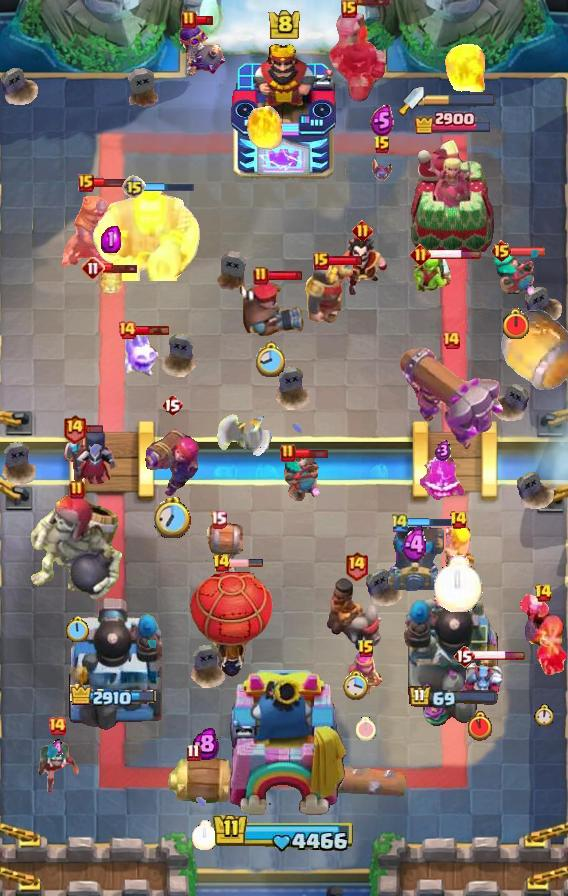archer: (346, 653, 386, 697)
axe: (216, 401, 272, 459)
bandit: (32, 739, 82, 793)
bar: (408, 516, 460, 528), (143, 181, 195, 193), (472, 650, 526, 661), (428, 249, 482, 260), (294, 447, 329, 460), (135, 324, 171, 336), (103, 262, 139, 274), (267, 270, 304, 281), (327, 255, 364, 266), (510, 246, 546, 257), (92, 177, 127, 188), (228, 558, 264, 568), (355, 0, 392, 7), (195, 15, 214, 26), (85, 424, 104, 434)
bar-level: (344, 550, 369, 581), (62, 413, 87, 444), (81, 256, 105, 280), (122, 175, 146, 199), (490, 239, 513, 263), (453, 644, 475, 668), (161, 393, 183, 417), (410, 244, 431, 265), (352, 220, 373, 241), (390, 512, 410, 533), (47, 716, 67, 736), (441, 330, 461, 350), (117, 320, 137, 340), (534, 583, 553, 603), (212, 553, 231, 573), (449, 510, 468, 530), (357, 639, 375, 659), (373, 135, 391, 155), (210, 510, 227, 529), (69, 480, 85, 500), (280, 443, 296, 463), (253, 266, 269, 286), (181, 10, 197, 30), (313, 252, 329, 270), (78, 174, 94, 192), (341, 0, 357, 18), (186, 743, 201, 762)
barbarian: (443, 525, 474, 569)
barbarian-barrel: (167, 757, 243, 807)
bat: (370, 156, 394, 182)
bomber-evolution: (177, 23, 227, 77)
cannoneer-tower: (402, 579, 504, 731), (66, 595, 162, 731)
clock: (434, 555, 483, 612), (154, 497, 191, 538), (256, 341, 287, 379), (501, 308, 531, 341), (192, 820, 218, 850), (343, 671, 369, 701), (468, 711, 492, 741), (65, 616, 89, 644), (356, 717, 376, 741), (534, 704, 553, 726)
dagger-duchess-tower: (409, 138, 497, 256)
dagger-duchess-tower-bar: (424, 93, 496, 107)
electro-spirit: (417, 453, 469, 507)
electro-wizard: (334, 235, 390, 299)
elixir: (401, 526, 429, 564), (192, 727, 219, 760), (370, 105, 394, 136), (101, 226, 121, 253), (435, 440, 451, 461), (51, 739, 63, 758)
firecracker-evolution: (143, 421, 201, 499)
goblin: (412, 254, 454, 296)
hunter: (236, 276, 306, 338)
ice-spirit-evolution: (122, 327, 162, 379)
king-tower: (219, 670, 349, 826), (230, 41, 338, 181)
king-tower-bar: (212, 812, 356, 854)
knight: (305, 262, 354, 323)
lava-pup: (97, 266, 125, 298)
minion: (457, 661, 503, 701)
mortar: (385, 527, 445, 591)
night-witch: (518, 593, 568, 679), (62, 426, 118, 502)
ram-rider: (325, 576, 387, 652)
rascal-girl: (493, 250, 539, 300), (282, 449, 322, 501)
the-log: (307, 761, 407, 799)
tower-bar: (70, 684, 158, 710), (408, 685, 499, 710), (413, 109, 493, 134)
wall-breaker: (193, 522, 243, 576)
